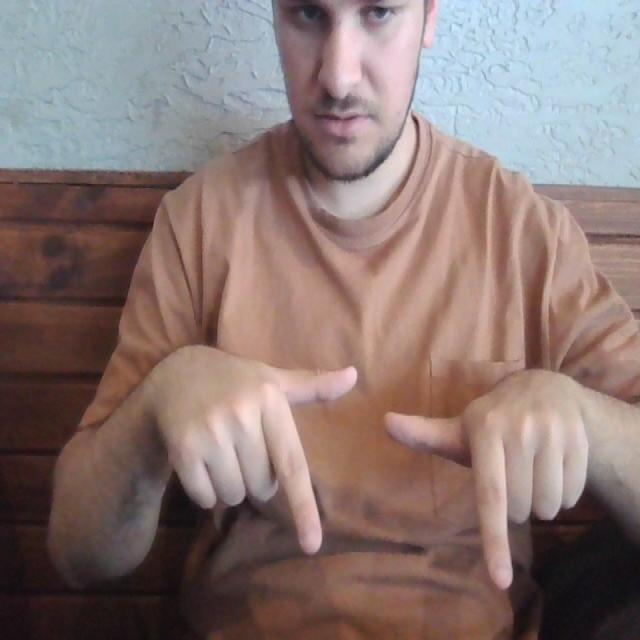Nerede: (257, 358, 522, 593)
